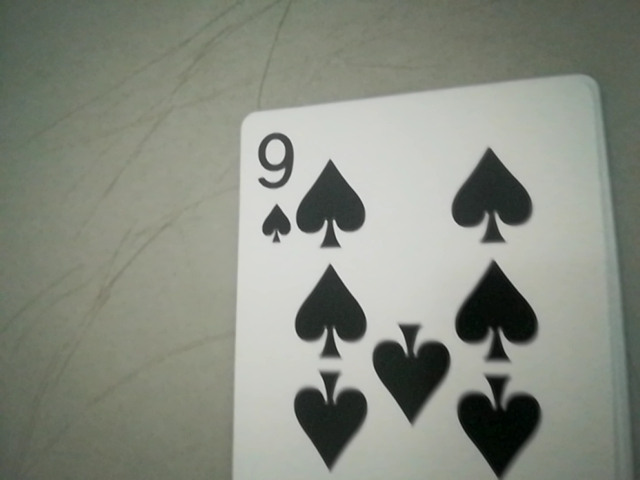ht 9: (240, 123, 306, 253)
